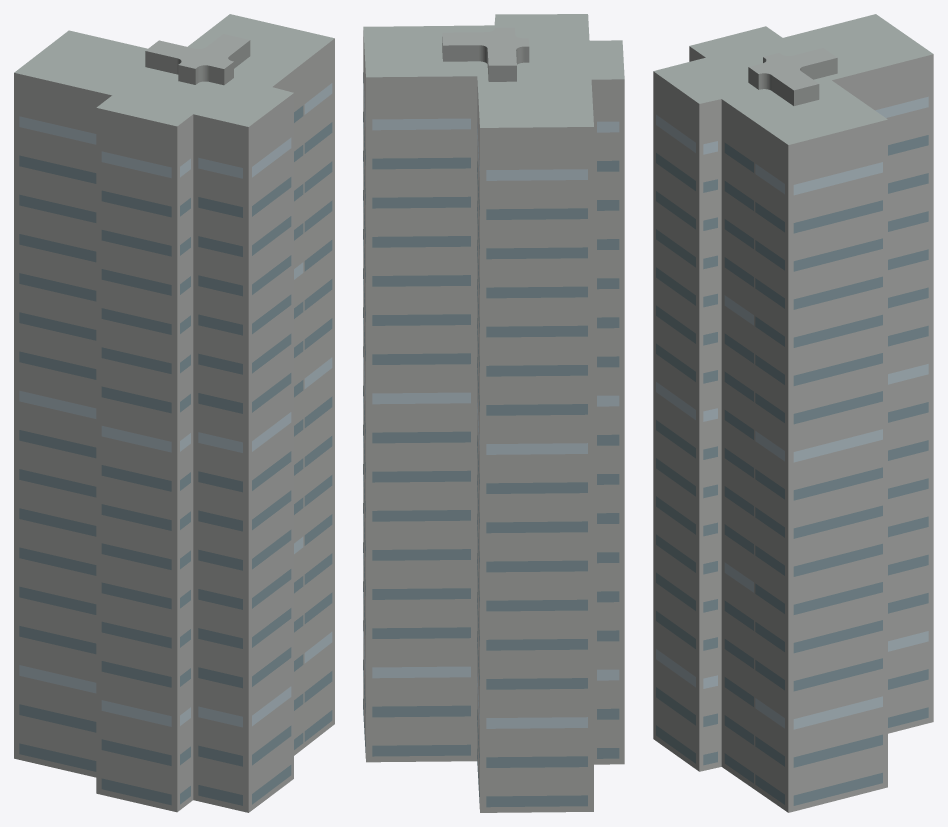
File: fallback-dmc-raemian-e-pyeonhansesang-114.glb
3 renders of one model, left to right at view 1: azimuth 30°, elevation 25°; view 2: azimuth 150°, elevation 25°; view 3: azimuth 270°, elevation 25°, orthographic. The views are drawn at different scales.
Visible parts, largest first — view 1: fallback-dmc-raemian-e-pyeonhansesang-114; view 2: fallback-dmc-raemian-e-pyeonhansesang-114; view 3: fallback-dmc-raemian-e-pyeonhansesang-114.
Part boxes in pixels (<box>): fallback-dmc-raemian-e-pyeonhansesang-114: <box>14,14,334,812</box>; fallback-dmc-raemian-e-pyeonhansesang-114: <box>363,14,624,812</box>; fallback-dmc-raemian-e-pyeonhansesang-114: <box>653,14,933,812</box>.
Size of the model in its own units: 42.78 by 104 by 38.67.
